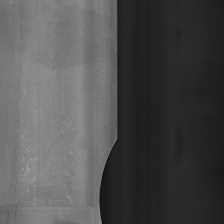crescent_gap: (93, 129, 124, 224), (1, 198, 105, 215)
